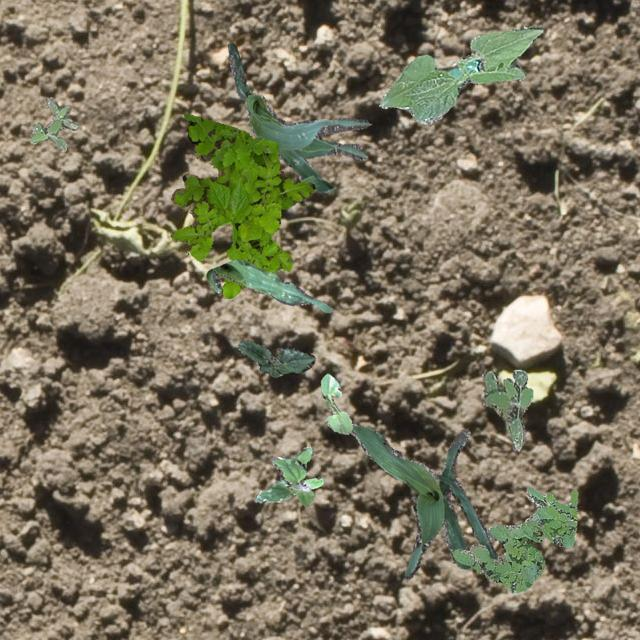crop: (350, 422, 496, 578), (227, 42, 371, 192), (378, 23, 542, 124), (206, 260, 330, 312), (236, 340, 314, 376), (320, 372, 350, 433)
weed: (170, 112, 314, 298), (452, 484, 578, 592), (482, 368, 532, 451), (255, 446, 322, 506), (28, 96, 78, 150)
